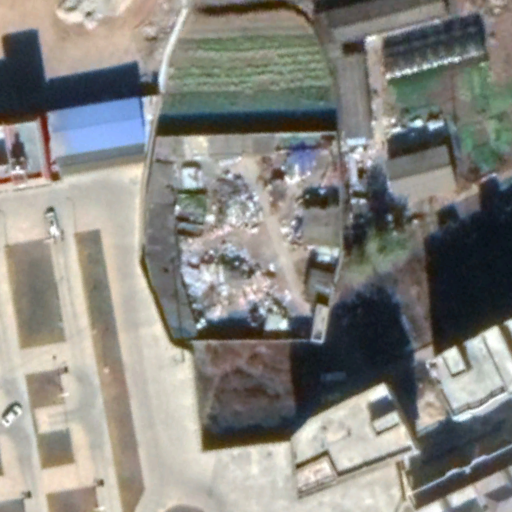msw: (178, 173, 289, 336)
